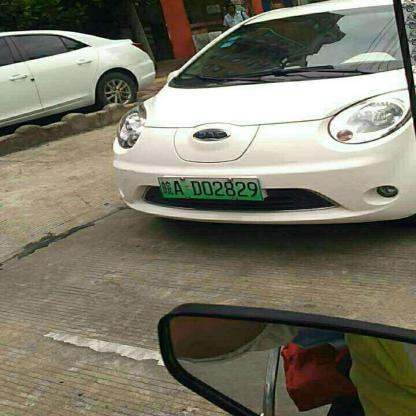lp: (159, 176, 261, 198)
